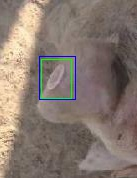text: (41, 59, 71, 98)
